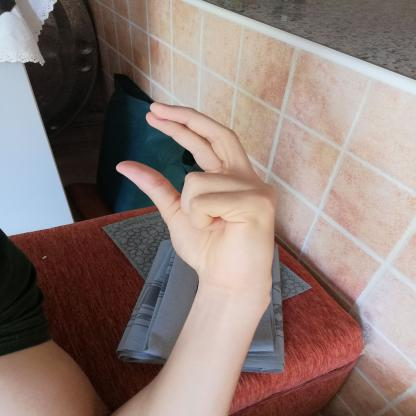DHELL: (104, 93, 286, 286)
